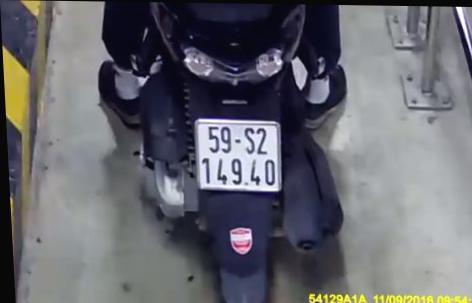License_Plate: (191, 116, 289, 199)
